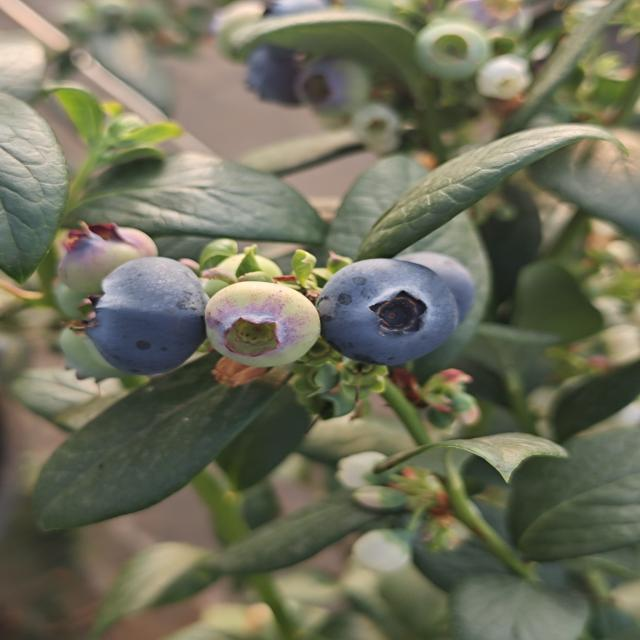ripe: (314, 255, 464, 367), (82, 255, 210, 377), (383, 246, 485, 342), (226, 40, 314, 114)
